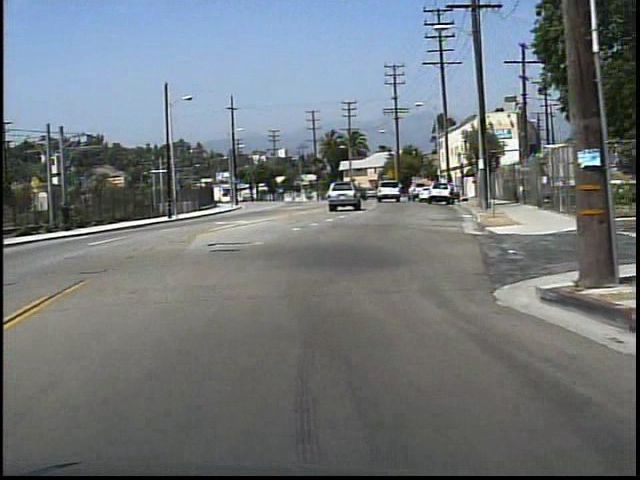person: (61, 199, 77, 234)
